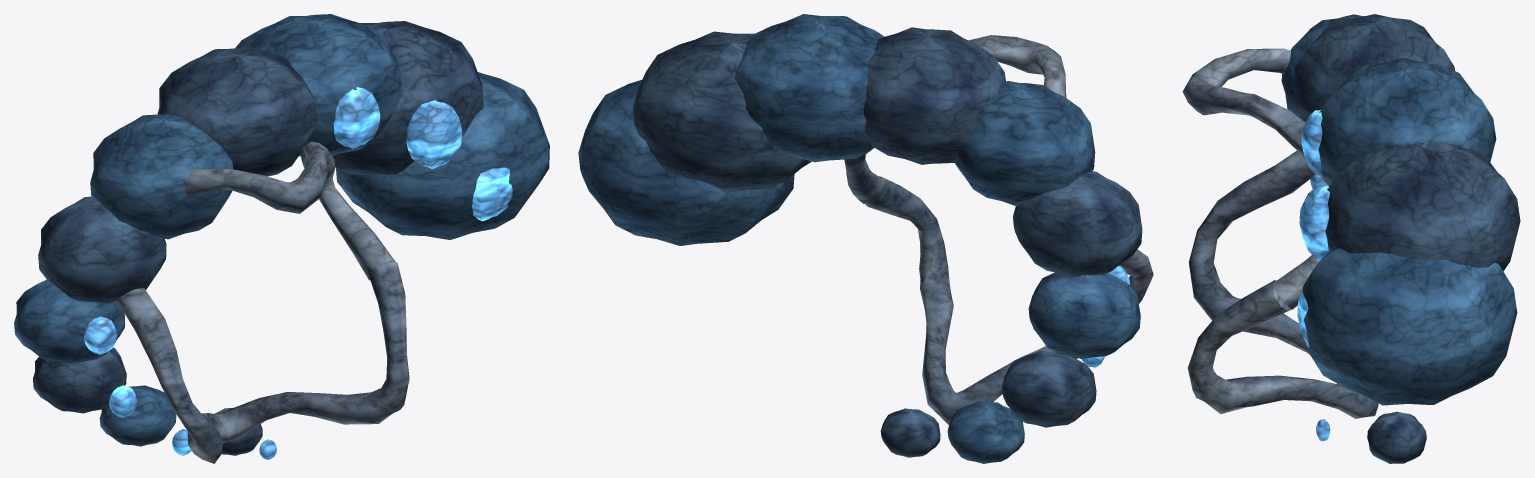
Rendered from severed-thunder.glb.
3 renders of one model, left to right at view 1: azimuth 30°, elevation 25°; view 2: azimuth 150°, elevation 25°; view 3: azimuth 270°, elevation 25°, orthographic. The views are drawn at different scales.
Parts seen in each view (by area): view 1: severed-thunder_membrane, severed-thunder_carapace, severed-thunder_rib, severed-thunder_signal; view 2: severed-thunder_membrane, severed-thunder_carapace, severed-thunder_rib; view 3: severed-thunder_membrane, severed-thunder_carapace, severed-thunder_rib, severed-thunder_signal.
Part boxes in pixels (x1=…): severed-thunder_membrane: x1=14, y1=14, x2=549, y2=446; severed-thunder_carapace: x1=33, y1=21, x2=483, y2=455; severed-thunder_rib: x1=117, y1=141, x2=409, y2=463; severed-thunder_signal: x1=84, y1=87, x2=512, y2=459; severed-thunder_membrane: x1=578, y1=14, x2=1140, y2=463; severed-thunder_carapace: x1=632, y1=27, x2=1142, y2=457; severed-thunder_rib: x1=844, y1=35, x2=1153, y2=424; severed-thunder_membrane: x1=1281, y1=14, x2=1517, y2=405; severed-thunder_carapace: x1=1293, y1=14, x2=1520, y2=463; severed-thunder_rib: x1=1182, y1=48, x2=1378, y2=418; severed-thunder_signal: x1=1297, y1=110, x2=1330, y2=441.
Bounding box in the file's own units: 1.74 × 1.28 × 0.9063.
4 materials, 4 textured.
